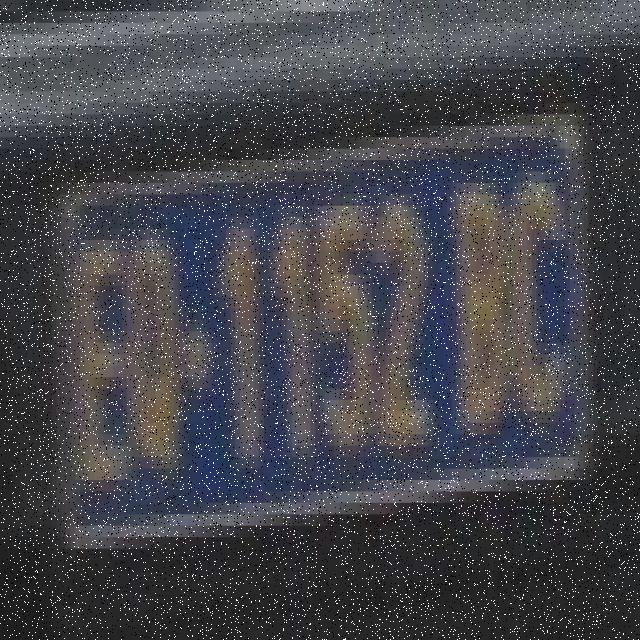licenseplate: (39, 56, 605, 564)
